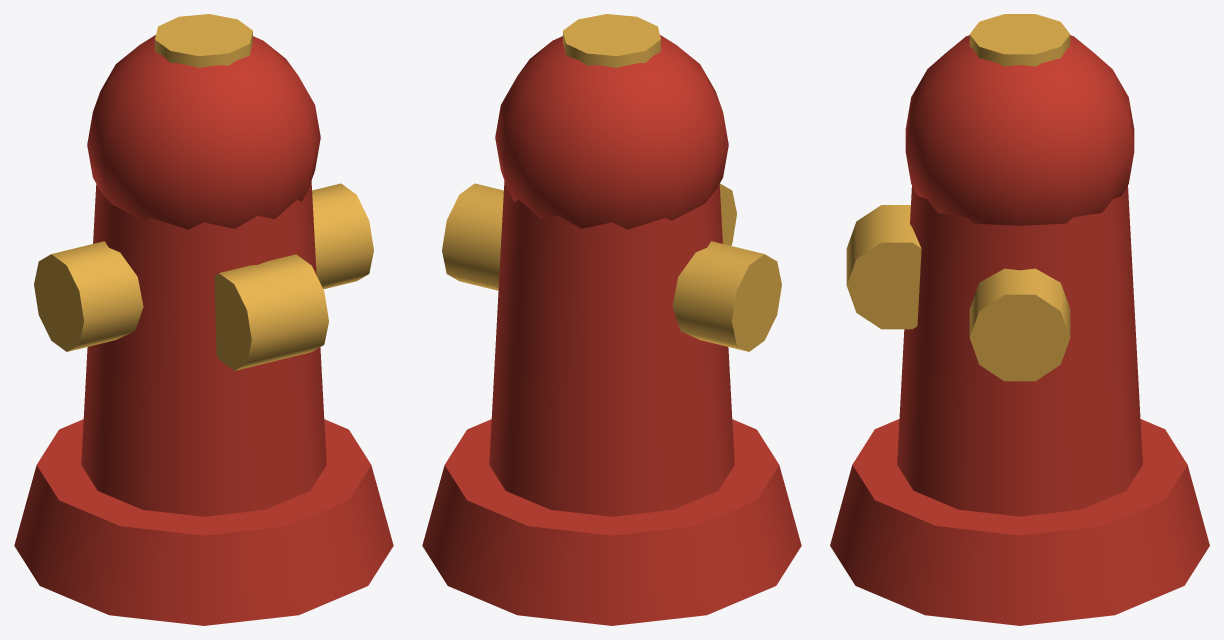
Rendered from hydrant.gltf.
The picture shows the model from 3 angles, left to right: view 1: azimuth 30°, elevation 25°; view 2: azimuth 150°, elevation 25°; view 3: azimuth 270°, elevation 25°; orthographic projection.
Visible parts, largest first — view 1: hydrant; view 2: hydrant; view 3: hydrant.
Boxes of the visible parts, x1,y1,x2,y2 form: hydrant: (14, 14, 393, 625); hydrant: (422, 14, 801, 625); hydrant: (830, 14, 1209, 625).
Size of the model in its own units: 0.68 by 1.01 by 0.68.
